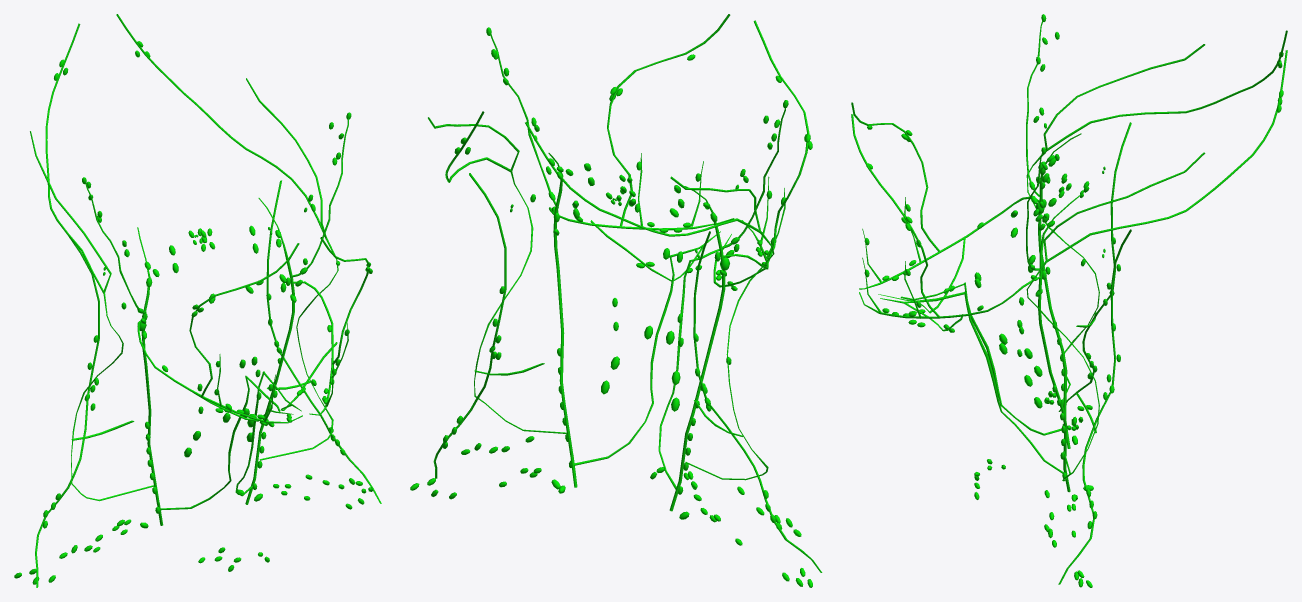
Rendered from Head_neck_Lymphatic.fbx.
3 renders of one model, left to right at view 1: azimuth 30°, elevation 25°; view 2: azimuth 150°, elevation 25°; view 3: azimuth 270°, elevation 25°, orthographic. The views are drawn at different scales.
Parts seen in each view (by area): view 1: Occipital_lymph_vessel_L, Occipital_lymph_vessel_R, Accessory_lymph_vessel_R, Internal_jugular_lymph_vessel_L, Accessory_lymph_vessel_L, Internal_jugular_lymph_vessel_R, External_jugular_lymph_vessel_R, External_jugular_lymph_vessel_L, Facial_lymph_vessel_R, Submandibular_lymph_vessel_R; view 2: Occipital_lymph_vessel_R, Internal_jugular_lymph_vessel_L, Internal_jugular_lymph_vessel_R, Accessory_lymph_vessel_R, Accessory_lymph_vessel_L, External_jugular_lymph_vessel_L, Occipital_lymph_vessel_L, External_jugular_lymph_vessel_R, Facial_lymph_vessel_L, Anterior_jugular_lymph_vessel_L, Facial_lymph_vessel_R, Anterior_jugular_lymph_vessel_R; view 3: Occipital_lymph_vessel_L, Occipital_lymph_vessel_R, Accessory_lymph_vessel_L, Internal_jugular_lymph_vessel_L, Internal_jugular_lymph_vessel_R, Accessory_lymph_vessel_R, Facial_lymph_vessel_L, Anterior_jugular_lymph_vessel_L, External_jugular_lymph_vessel_L.
Boxes of the visible parts, box(x1,y1,x2,y2) form: Occipital_lymph_vessel_L: box(116, 14, 336, 259); Occipital_lymph_vessel_R: box(30, 23, 111, 314); Accessory_lymph_vessel_R: box(35, 236, 99, 587); Internal_jugular_lymph_vessel_L: box(253, 198, 294, 479); Accessory_lymph_vessel_L: box(266, 180, 381, 503); Internal_jugular_lymph_vessel_R: box(137, 227, 159, 503); External_jugular_lymph_vessel_R: box(71, 315, 154, 501); External_jugular_lymph_vessel_L: box(259, 259, 338, 460); Facial_lymph_vessel_R: box(189, 243, 299, 397); Submandibular_lymph_vessel_R: box(137, 320, 302, 423); Occipital_lymph_vessel_R: box(525, 122, 772, 246); Internal_jugular_lymph_vessel_L: box(548, 153, 573, 455); Internal_jugular_lymph_vessel_R: box(678, 186, 725, 482); Accessory_lymph_vessel_R: box(693, 231, 822, 572); Accessory_lymph_vessel_L: box(433, 173, 506, 478); External_jugular_lymph_vessel_L: box(474, 184, 566, 433); Occipital_lymph_vessel_L: box(428, 111, 519, 183); External_jugular_lymph_vessel_R: box(685, 246, 774, 480); Facial_lymph_vessel_L: box(607, 14, 730, 226); Anterior_jugular_lymph_vessel_L: box(574, 255, 674, 465); Facial_lymph_vessel_R: box(753, 20, 809, 262); Anterior_jugular_lymph_vessel_R: box(658, 260, 691, 489); Occipital_lymph_vessel_L: box(1032, 50, 1287, 280); Occipital_lymph_vessel_R: box(1033, 30, 1287, 165); Accessory_lymph_vessel_L: box(1058, 229, 1131, 584); Internal_jugular_lymph_vessel_L: box(1038, 194, 1081, 469); Internal_jugular_lymph_vessel_R: box(1038, 133, 1081, 418); Accessory_lymph_vessel_R: box(1058, 122, 1131, 411); Facial_lymph_vessel_L: box(851, 114, 940, 318); Anterior_jugular_lymph_vessel_L: box(964, 291, 1063, 473); External_jugular_lymph_vessel_L: box(1026, 280, 1099, 481).
Bounding box in the file's own units: 18.75 × 22.6 × 19.26.
